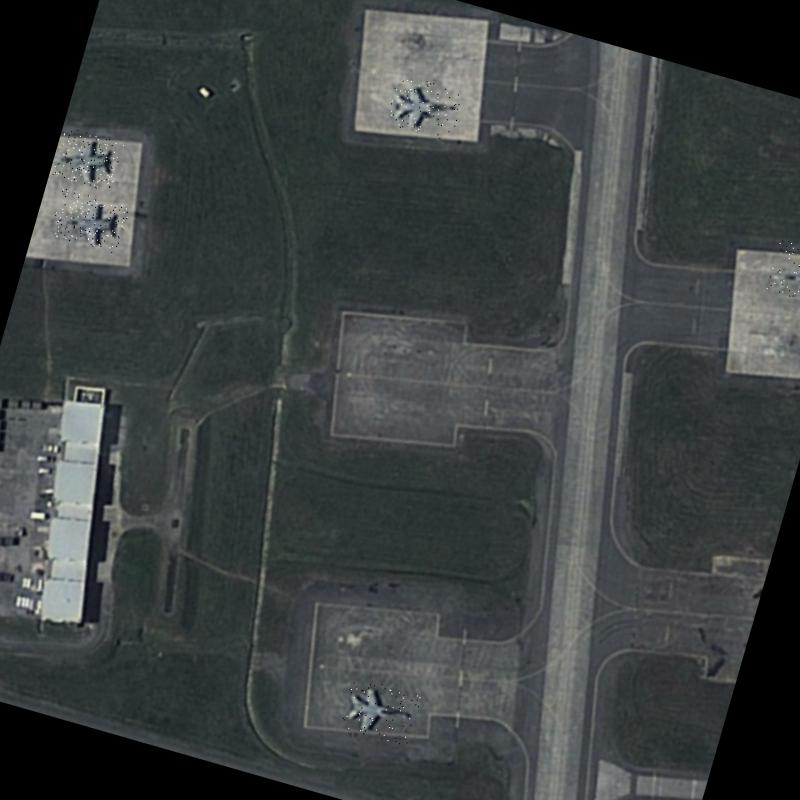A16: (339, 674, 422, 746), (384, 73, 466, 142), (49, 188, 130, 254), (50, 126, 125, 192), (765, 238, 800, 308)
